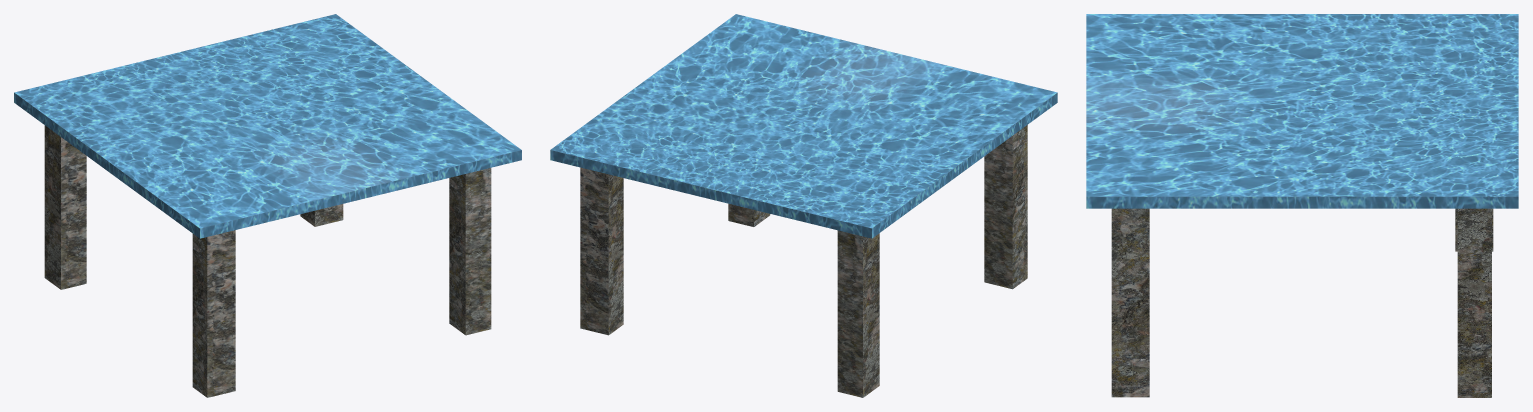
3 renders of one model, left to right at view 1: azimuth 30°, elevation 25°; view 2: azimuth 150°, elevation 25°; view 3: azimuth 270°, elevation 25°, orthographic. The views are drawn at different scales.
Parts seen in each view (by area): view 1: Table; view 2: Table; view 3: Table.
Boxes of the visible parts, x1=… form: Table: x1=14, y1=14, x2=521, y2=397; Table: x1=550, y1=14, x2=1057, y2=397; Table: x1=1086, y1=14, x2=1518, y2=397.
Size of the model in its own units: 1 by 0.5414 by 1.
